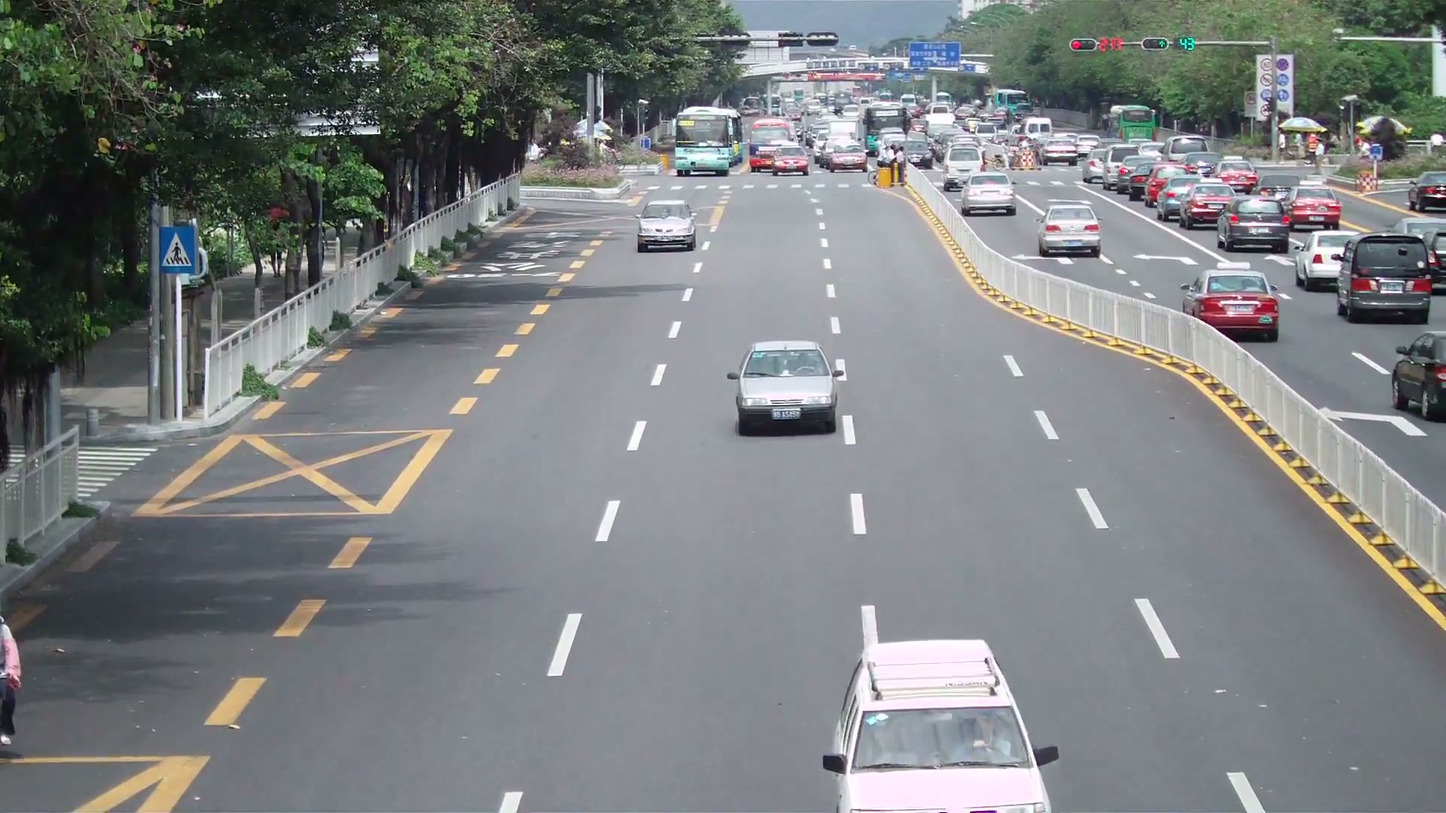bus: (672, 105, 747, 175), (744, 116, 794, 172)
car: (823, 637, 1061, 812), (730, 338, 841, 435), (1336, 233, 1435, 324), (1182, 266, 1281, 342), (1390, 332, 1446, 418), (1292, 227, 1367, 291), (1216, 194, 1291, 253), (1037, 201, 1102, 257), (634, 198, 697, 252), (959, 173, 1017, 216), (1152, 173, 1202, 221), (1180, 188, 1237, 229), (1285, 193, 1342, 231), (1407, 171, 1445, 214), (773, 144, 812, 175)
pedestrian: (0, 612, 22, 749)
